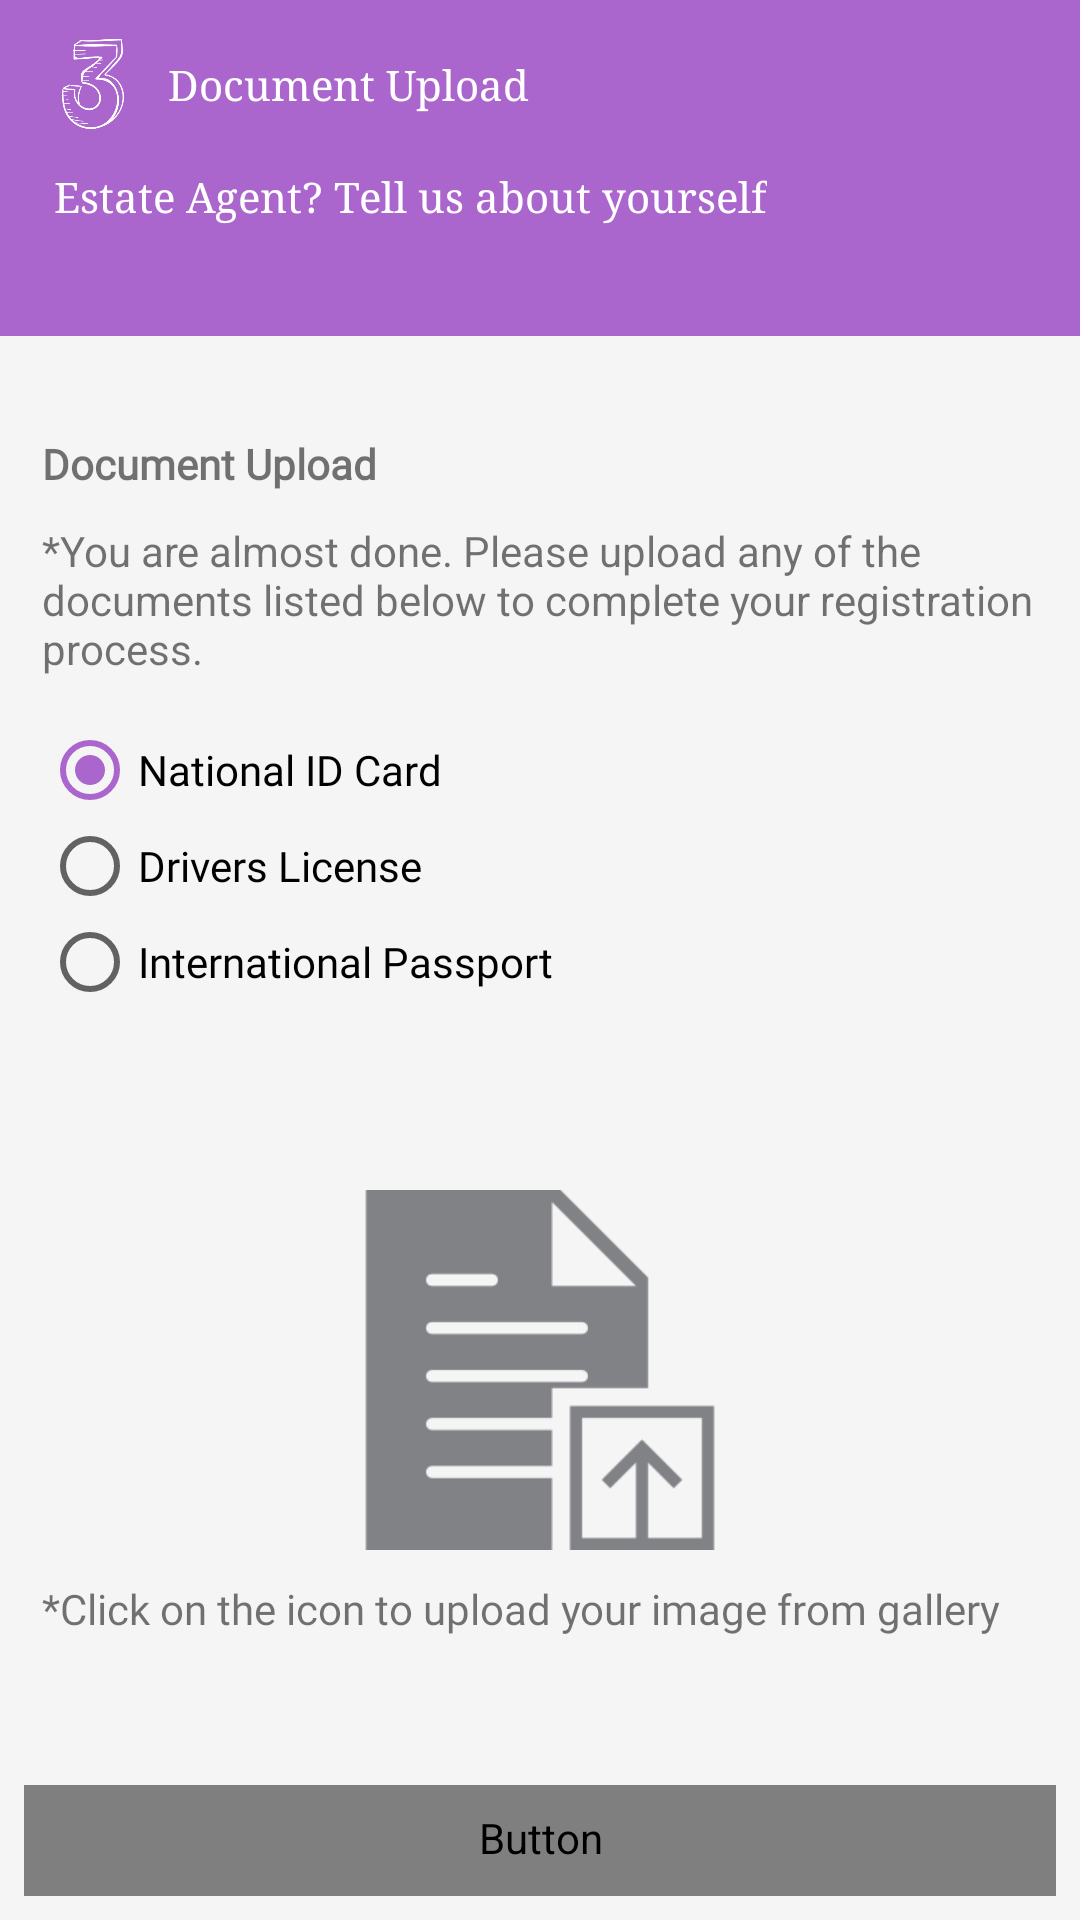

Icon bounding boxes for this 1080*1920 phone screenshot, format (x1,y1,x2,y2):
Number 3: (62,39,124,129)
